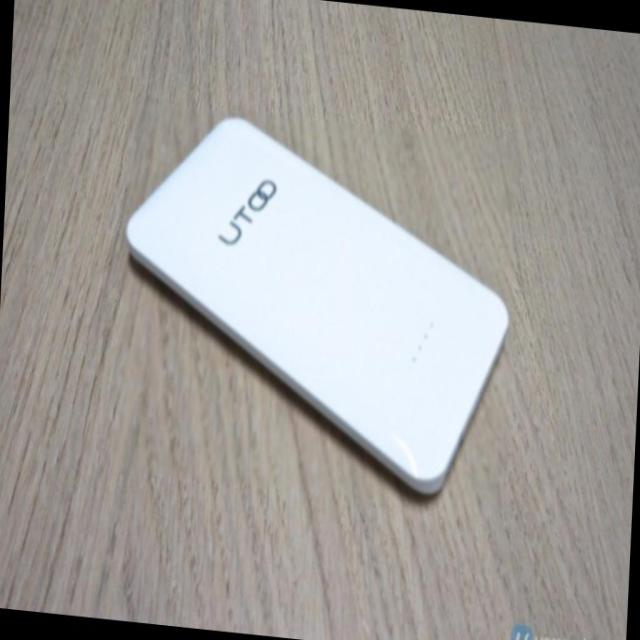handphone: (130, 122, 504, 495)
